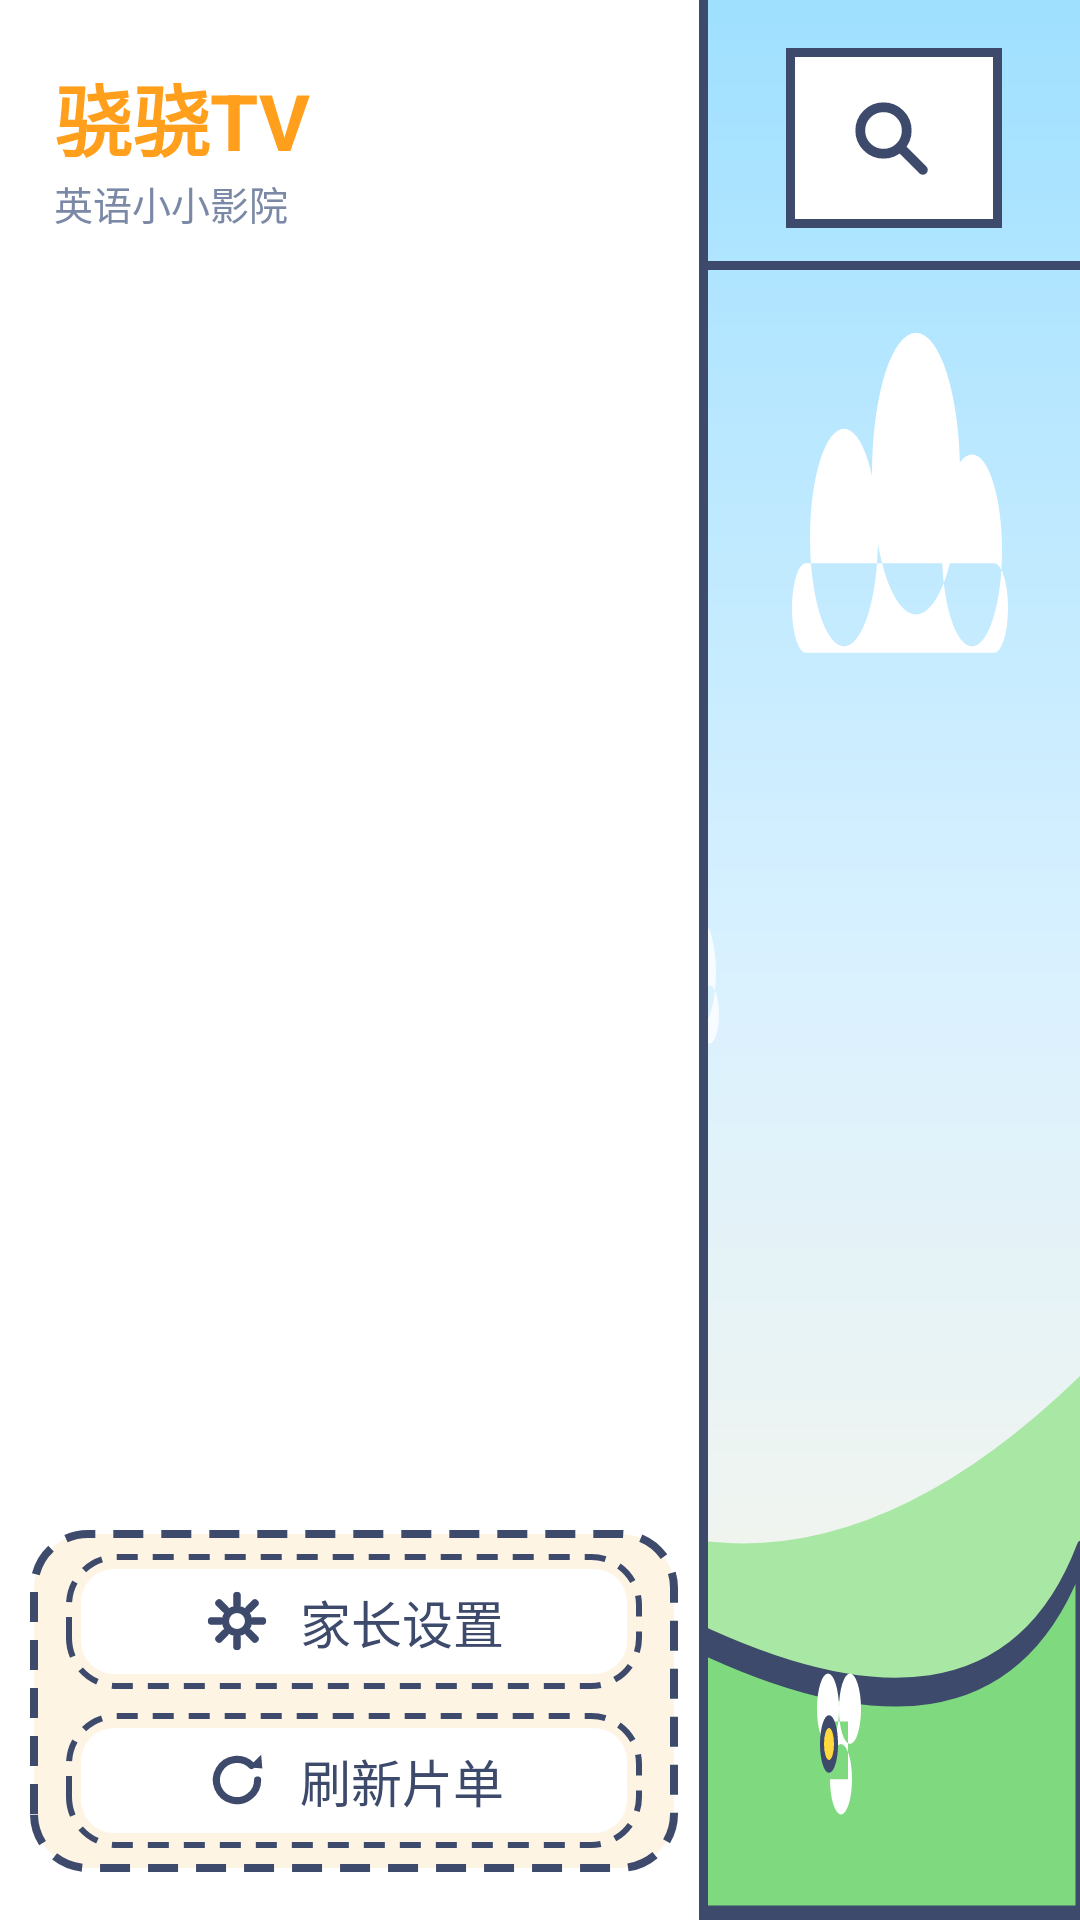

Icons on this 1080x1920 Android screen, each with its box as (x1, y1, x2, y2):
搜索片单: (855, 102, 928, 175)
